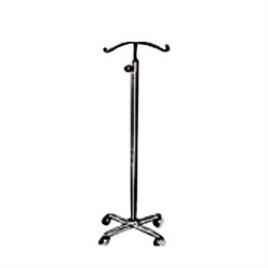Saline Stand: (97, 39, 170, 246)
